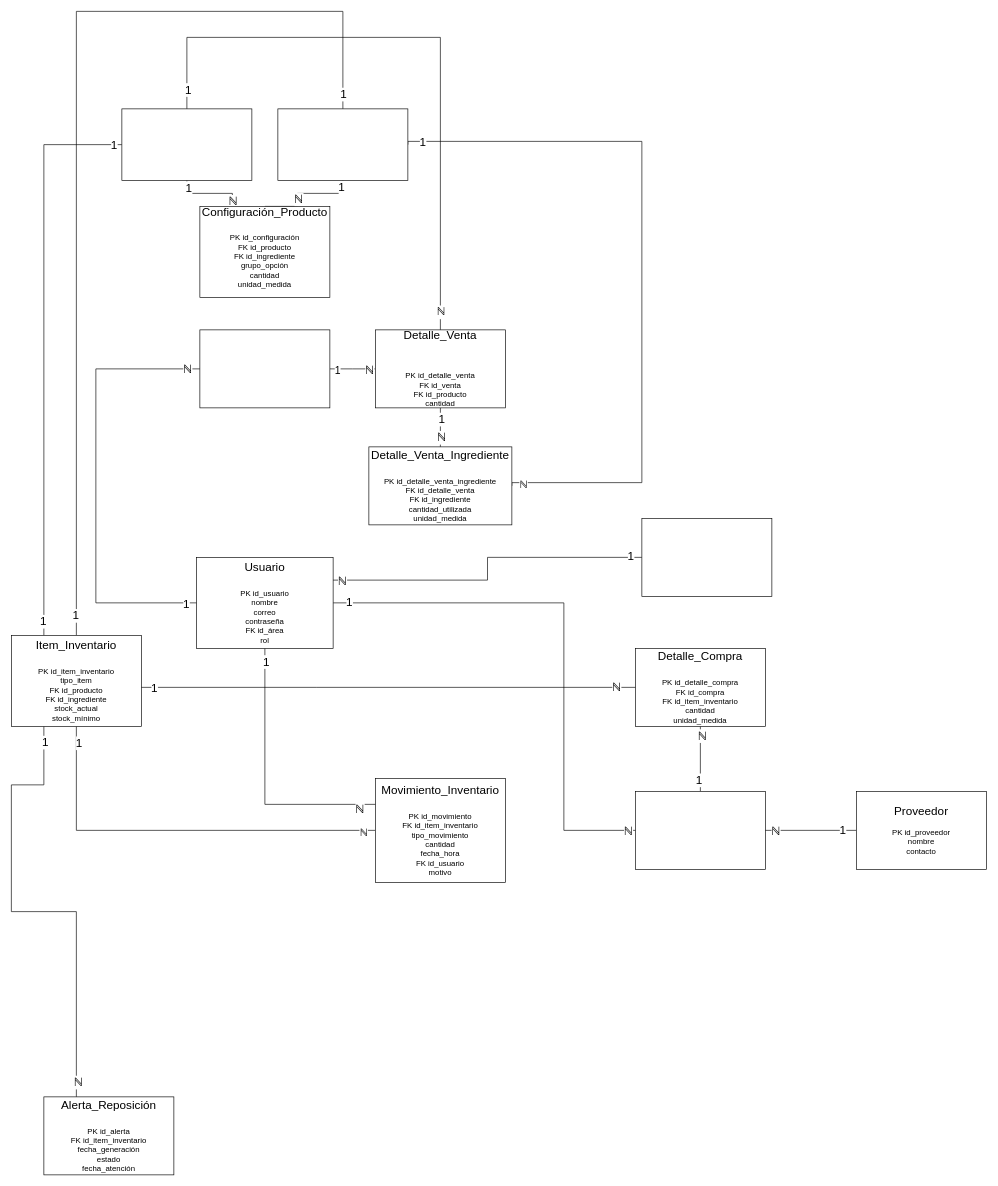
This 998x1186 diagram has some shape labels left out. The box of each missing label's shape, as (x1, y1, x2, y2) in pixels:
Compra PK id_compra fecha_hora FK id_proovedor FK id_usuario: (635, 791, 765, 869)
Ingrediente PK id_ingrediente nombre unidad_medida: (277, 108, 408, 180)
Producto PK id_producto nombre precio: (121, 108, 252, 180)
Venta PK id_venta fecha_hora FK id_usuario: (199, 329, 330, 408)
Área PK id_área nombre_área: (641, 518, 772, 596)
